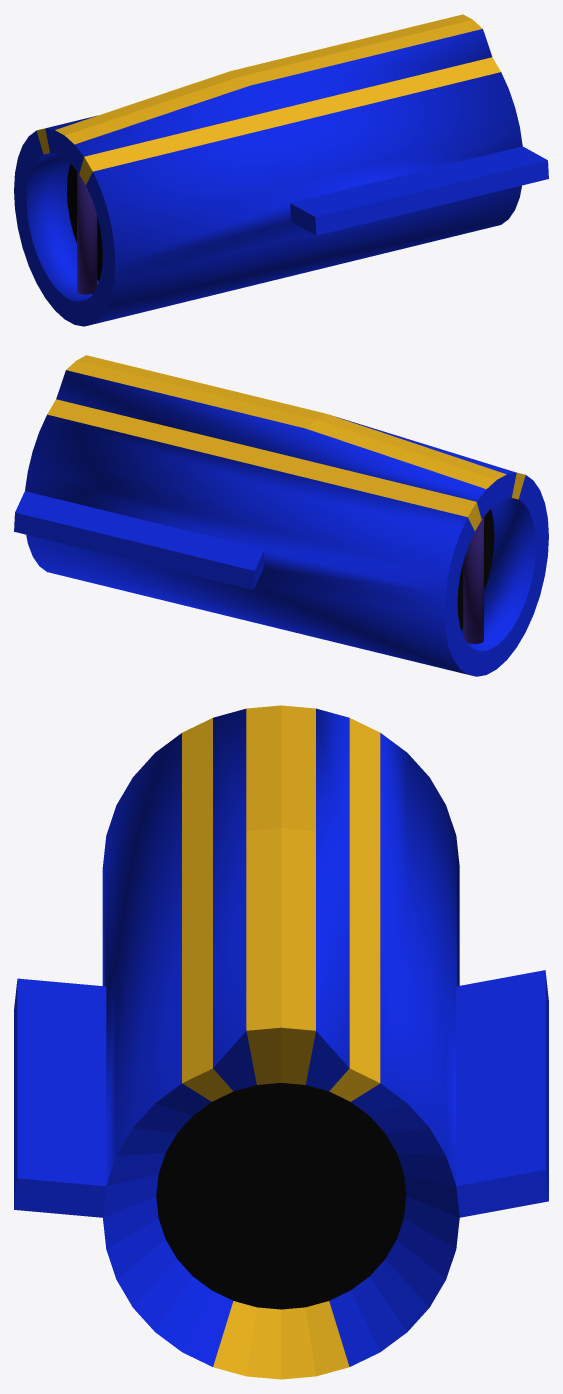
File: notmegamangun.fbx
3 views of the same model, one above another, from view 1: azimuth 30°, elevation 25°; view 2: azimuth 150°, elevation 25°; view 3: azimuth 270°, elevation 25° (orthographic). The views are drawn at different scales.
Visible parts, largest first — view 1: Cylinder; view 2: Cylinder; view 3: Cylinder.
Part boxes in pixels (x1,y1,x2,y2): Cylinder: [14, 14, 548, 326]; Cylinder: [14, 355, 548, 676]; Cylinder: [14, 705, 548, 1379].
Bounding box in the file's own units: 465 × 218 × 300.
